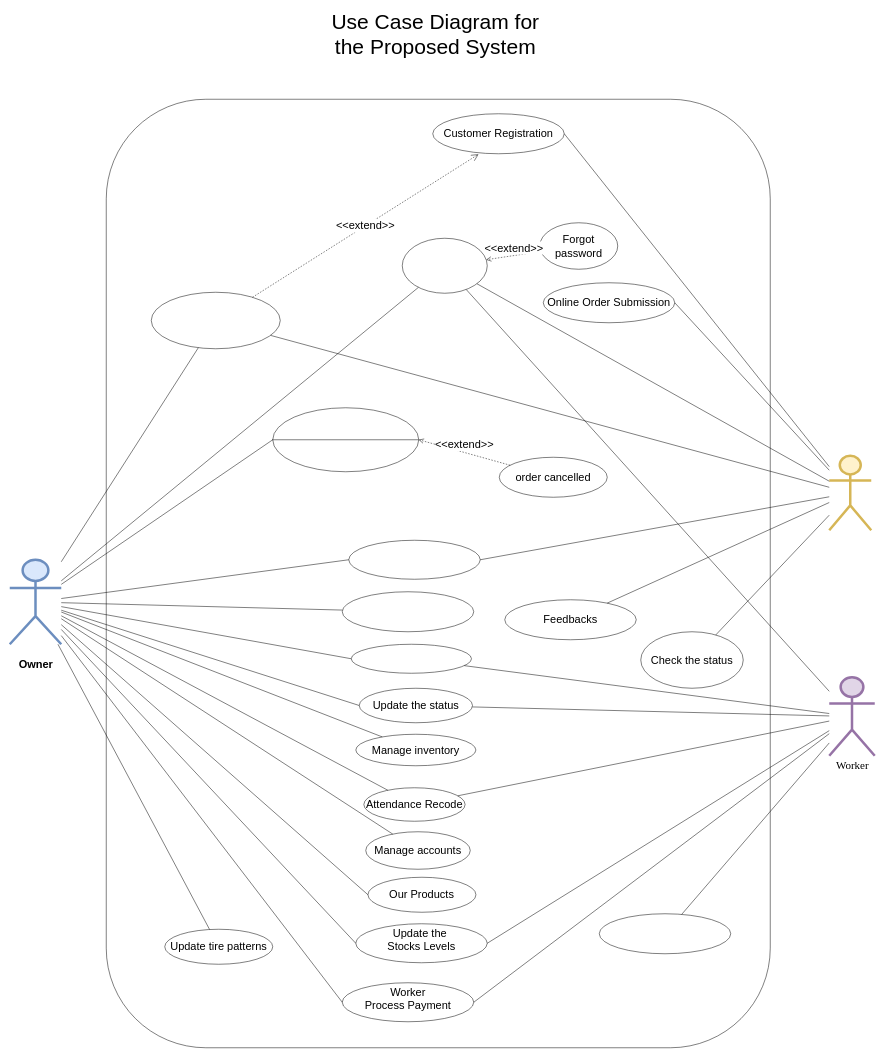
The diagram is 885 pixels wide and 1057 high, and some of its shapes have lost their labels. The shapes that lost their labels are listed below. From the top down, each one's centre as x and y in pixels, then its label:
At point 444,265: "Login".
At point 215,320: "Owner in person inspects customer tyre".
At point 345,439: "check Order and confirm the order cannot be repaired".
At point 850,492: "Customer".
At point 414,559: "Process Payment".
At point 408,611: "Recode the Suppliers Detals".
At point 411,658: "Work Distribution".
At point 665,933: "Worker_messages".
